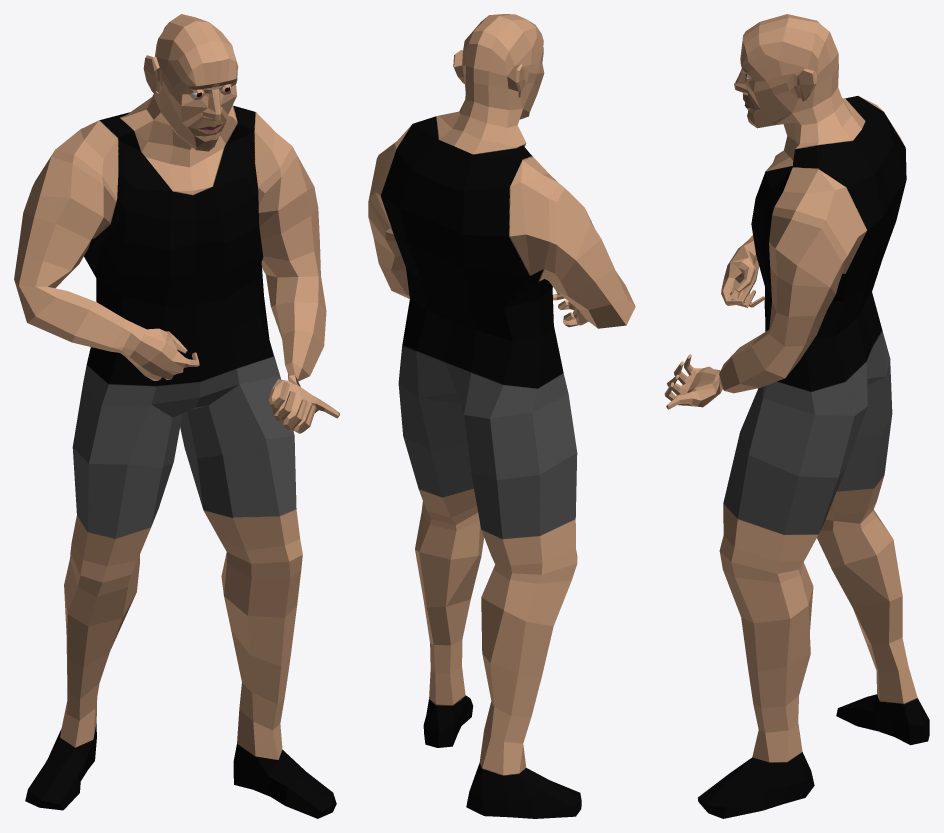
Rendered from PlayerIdle(91).obj.
3 views of the same model, side by side, from view 1: azimuth 30°, elevation 25°; view 2: azimuth 150°, elevation 25°; view 3: azimuth 270°, elevation 25° (orthographic). The views are drawn at different scales.
Parts seen in each view (by area): view 1: Plane002; view 2: Plane002; view 3: Plane002.
Boxes of the visible parts, x1,y1,x2,y2 form: Plane002: (14,14,339,818); Plane002: (368,14,635,818); Plane002: (664,14,929,818).
Size of the model in its own units: 673 by 1802 by 576.
